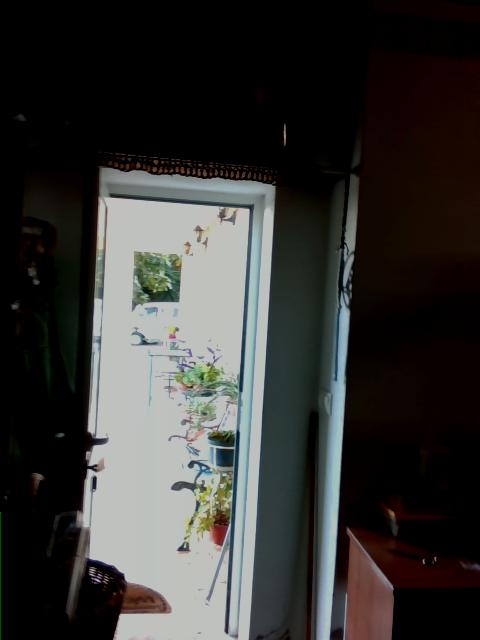open_door: (67, 151, 275, 639)
